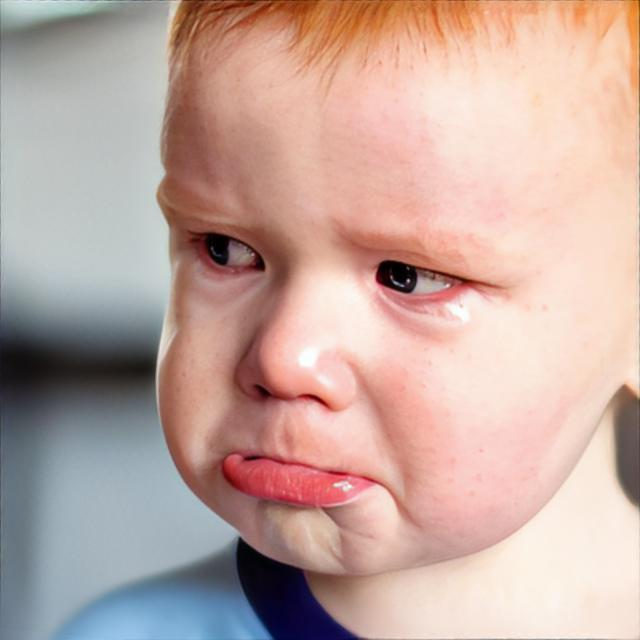sad: (154, 4, 626, 578)
